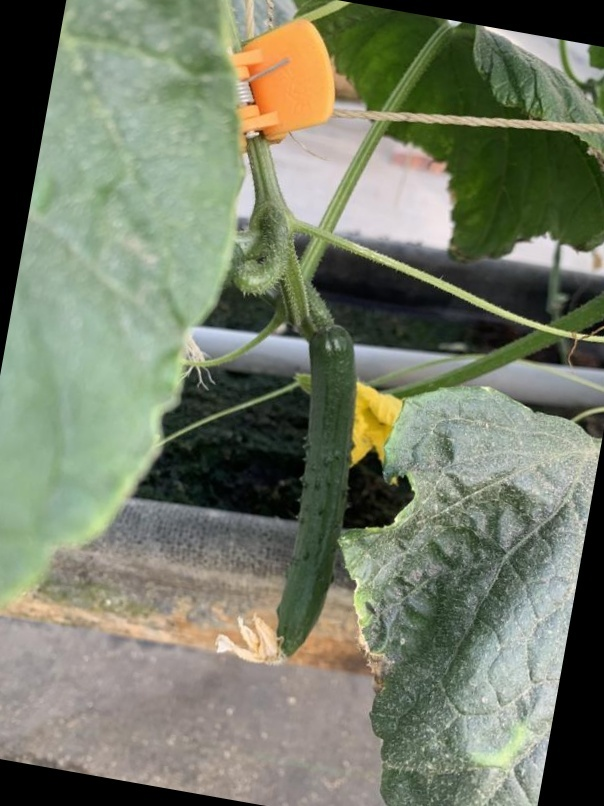mature: (269, 321, 365, 664)
